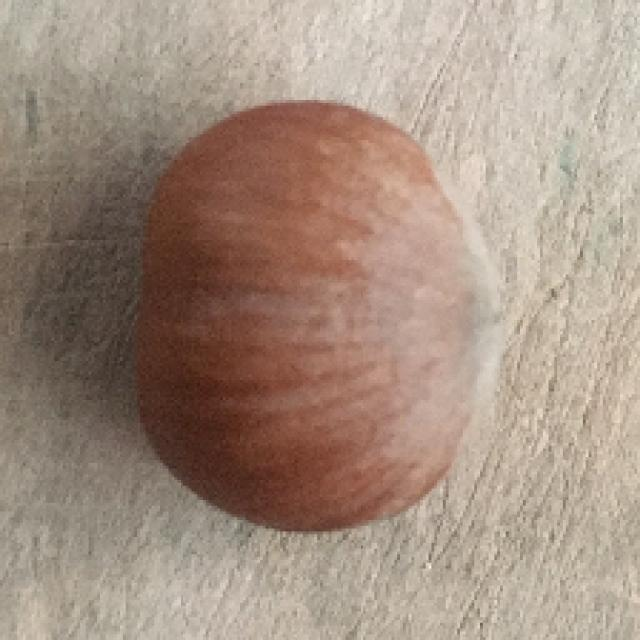qualityHazelnut: (118, 99, 510, 538)
